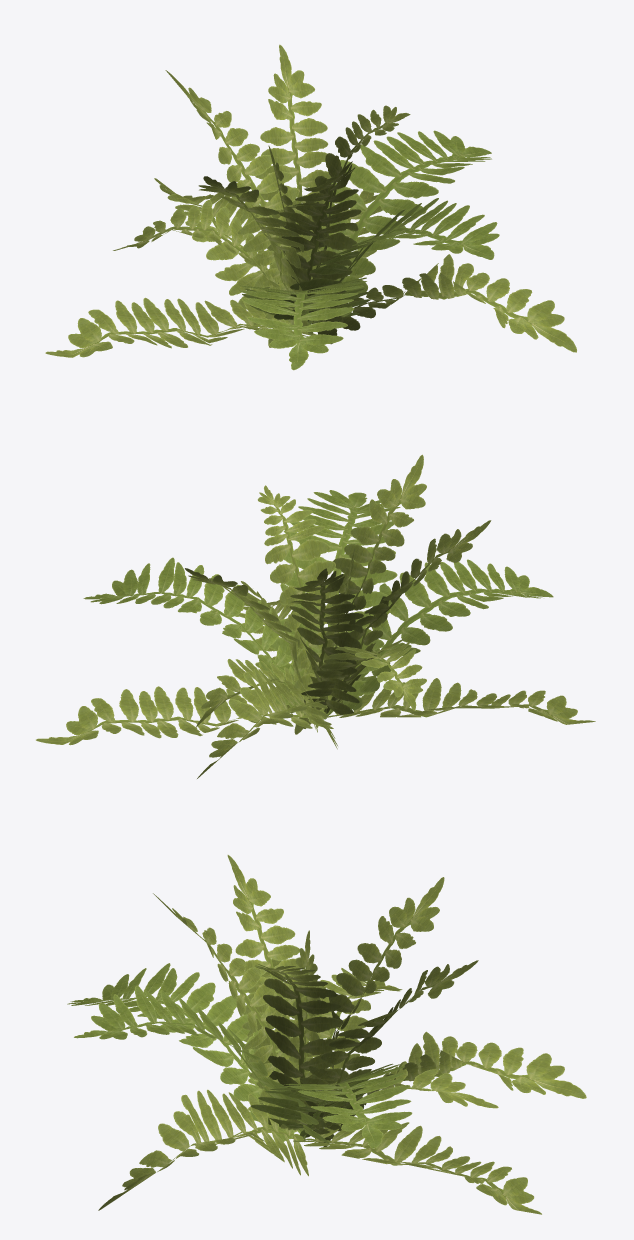
Rendered from PhlebodiumAureum.glb.
3 renders of one model, top to bottom at view 1: azimuth 30°, elevation 25°; view 2: azimuth 150°, elevation 25°; view 3: azimuth 270°, elevation 25°, orthographic. The views are drawn at different scales.
Parts seen in each view (by area): view 1: Cabbage_Palm_Fern__Realistic_LOD3; view 2: Cabbage_Palm_Fern__Realistic_LOD3; view 3: Cabbage_Palm_Fern__Realistic_LOD3.
Part boxes in pixels (x1=…): Cabbage_Palm_Fern__Realistic_LOD3: x1=45, y1=44, x2=576, y2=370; Cabbage_Palm_Fern__Realistic_LOD3: x1=36, y1=454, x2=595, y2=778; Cabbage_Palm_Fern__Realistic_LOD3: x1=67, y1=855, x2=586, y2=1214.
Size of the model in its own units: 2.27 by 1.21 by 2.19.
1 material, 1 textured.
